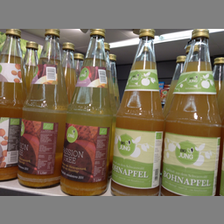juice: (162, 30, 223, 196), (112, 29, 165, 196), (61, 29, 113, 195), (17, 29, 62, 189)
